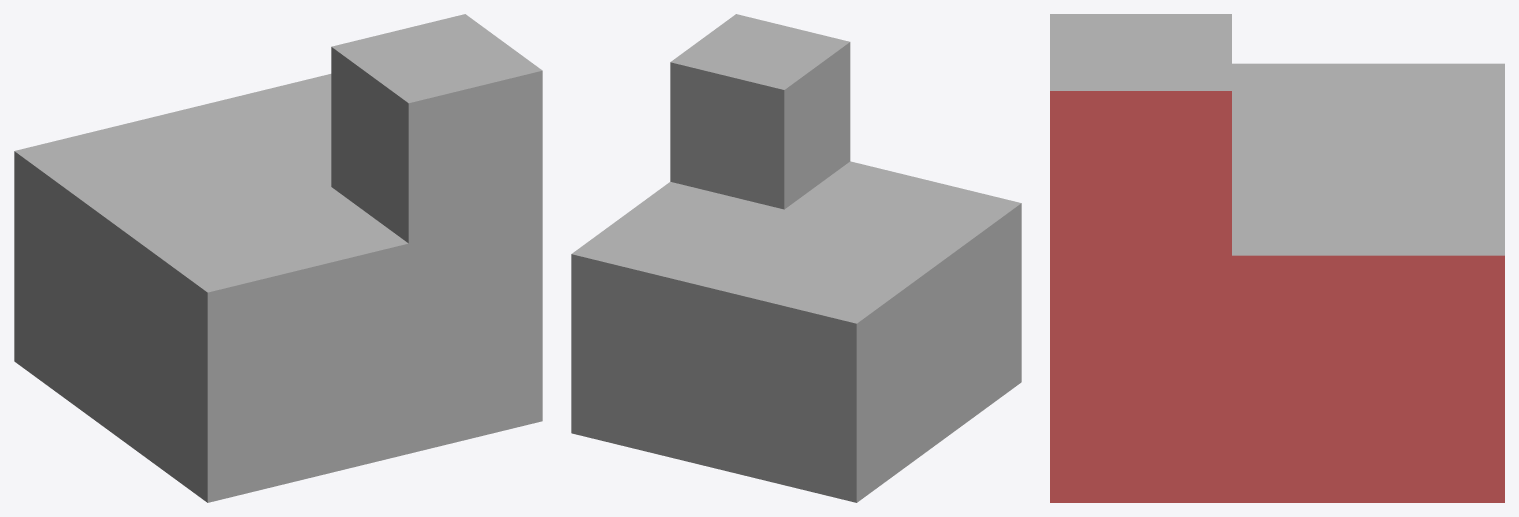
The picture shows the model from 3 angles, left to right: view 1: azimuth 30°, elevation 25°; view 2: azimuth 150°, elevation 25°; view 3: azimuth 270°, elevation 25°; orthographic projection. The views are drawn at different scales.
Visible parts, largest first — view 1: 7-4.SLDPRT; view 2: 7-4.SLDPRT; view 3: 7-4.SLDPRT.
Part boxes in pixels (x1,y1,x2,y2): 7-4.SLDPRT: [14, 14, 542, 502]; 7-4.SLDPRT: [571, 14, 1021, 502]; 7-4.SLDPRT: [1050, 14, 1504, 502].
Size of the model in its own units: 0.05 by 0.05 by 0.05.
